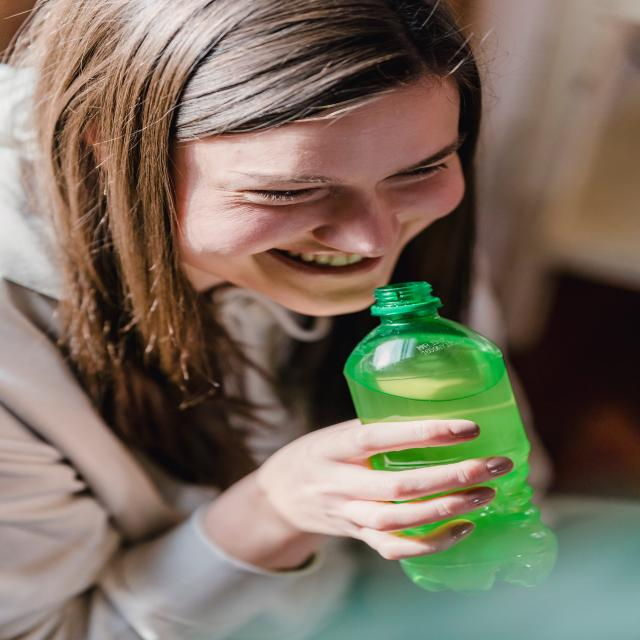bottle: (340, 280, 561, 596)
